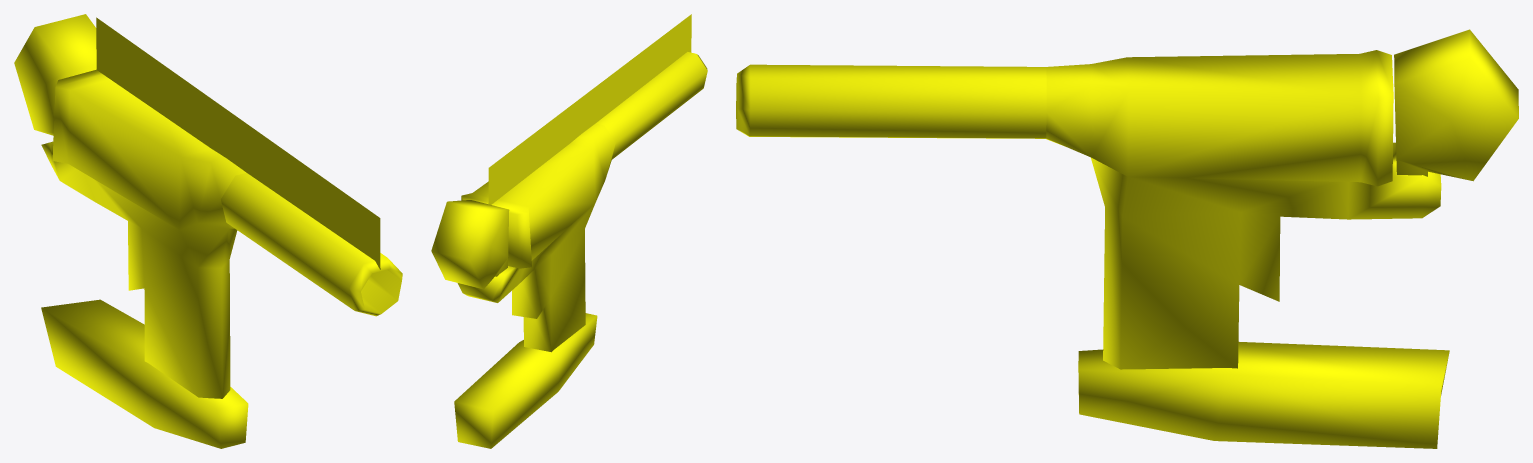
The model's file is APG RIGHT.glb.
3 views of the same model, side by side, from view 1: azimuth 30°, elevation 25°; view 2: azimuth 150°, elevation 25°; view 3: azimuth 270°, elevation 25° (orthographic). The views are drawn at different scales.
Visible parts, largest first — view 1: character_3dmg_2.010; view 2: character_3dmg_2.010; view 3: character_3dmg_2.010.
Part boxes in pixels (x1,y1,x2,y2): character_3dmg_2.010: (14, 14, 402, 448); character_3dmg_2.010: (431, 14, 707, 448); character_3dmg_2.010: (736, 29, 1518, 448).
Size of the model in its own units: 0.0408 by 0.1461 by 0.2448.
1 material, 1 textured.
